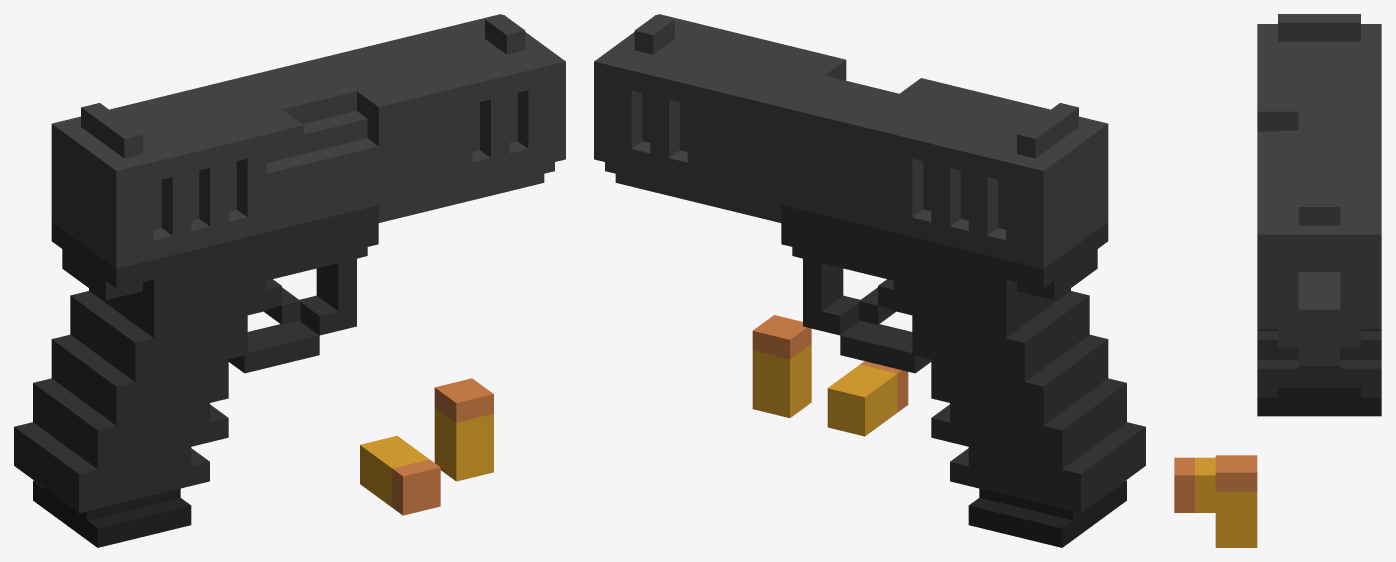
File: Gun2.gltf
3 renders of one model, left to right at view 1: azimuth 30°, elevation 25°; view 2: azimuth 150°, elevation 25°; view 3: azimuth 270°, elevation 25°, orthographic. The views are drawn at different scales.
Parts seen in each view (by area): view 1: gun; view 2: gun; view 3: gun.
Part boxes in pixels (x1,y1,x2,y2): gun: (14,14,565,547); gun: (594,14,1145,547); gun: (1174,14,1381,547).
Bounding box in the file's own units: 2.6 × 2 × 1.
1 material, 1 textured.
